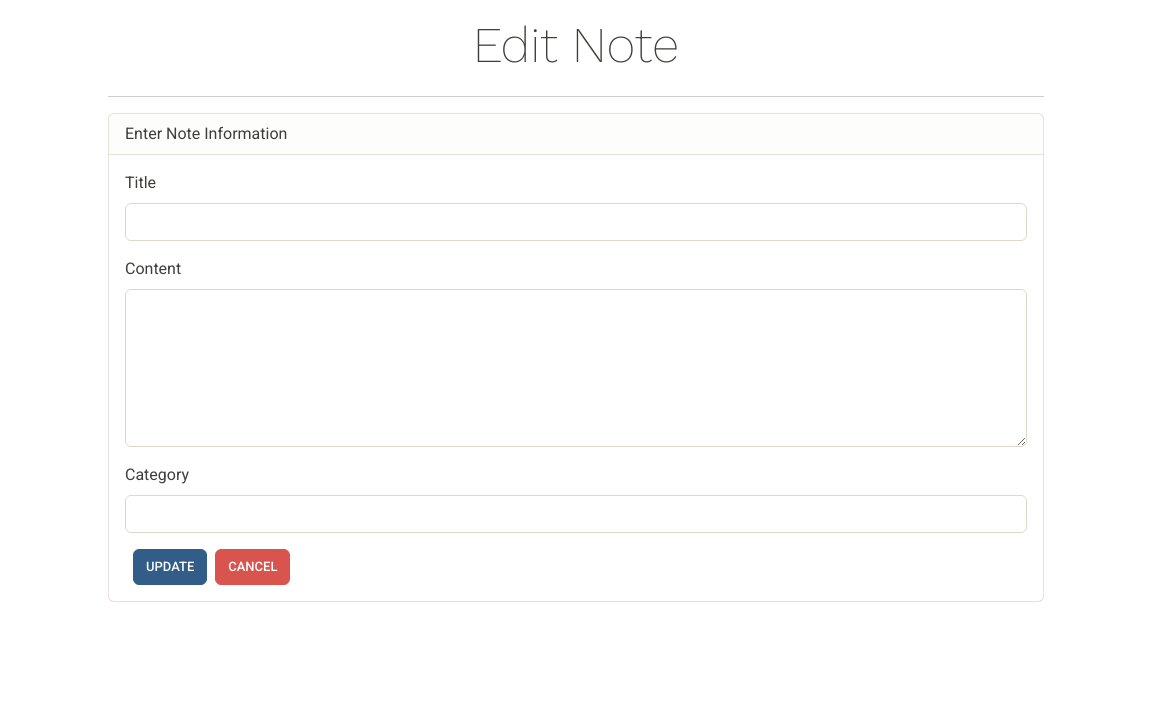
it: EditNote › should show validation messages when fields are empty
Click the button "Update" at (170, 567), box 133,549 -> 207,585
(page scrolled)
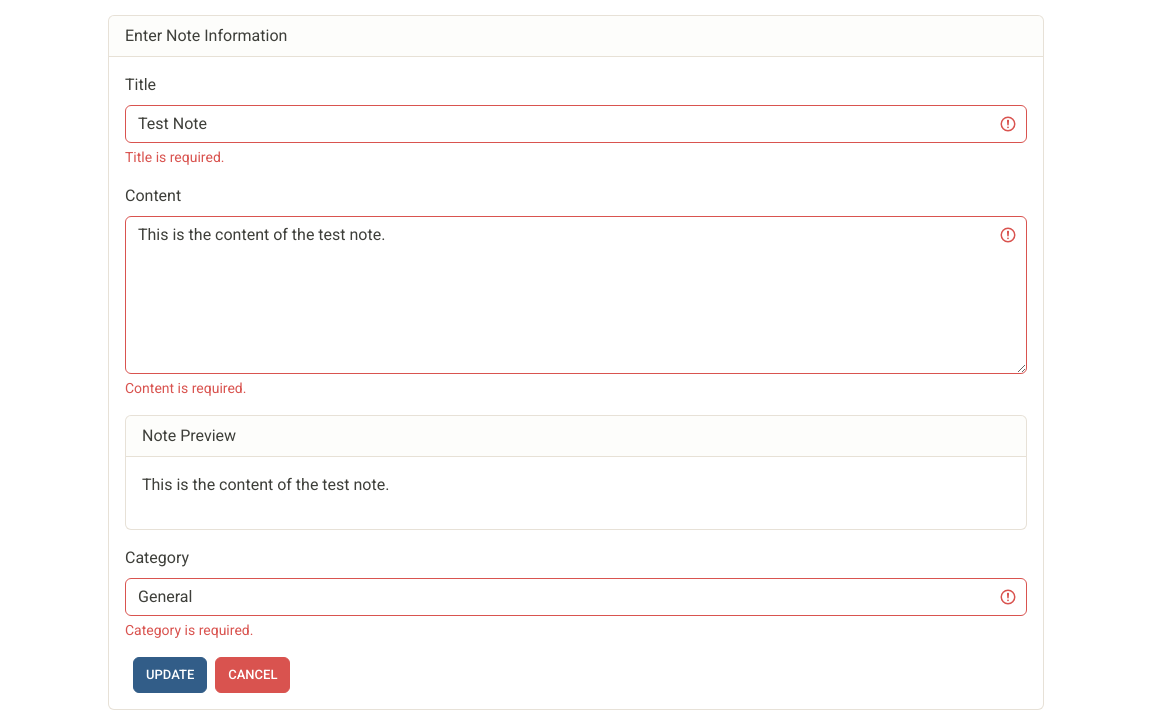
expect the text "Title is required." is shown: met, box 125,149 -> 224,165
expect the text "Content is required." is shown: met, box 125,380 -> 246,396
expect the text "Category is required." is shown: met, box 125,622 -> 253,638
